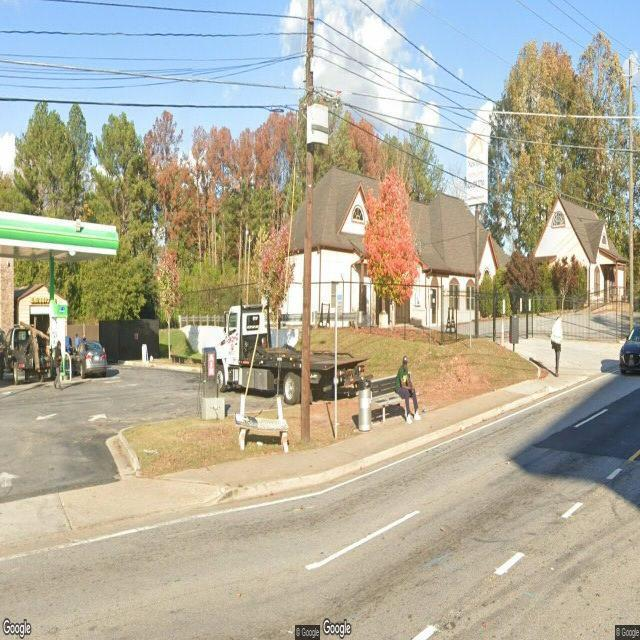seating: (235, 394, 289, 452), (370, 372, 414, 425)
trash_can: (358, 380, 370, 431)
